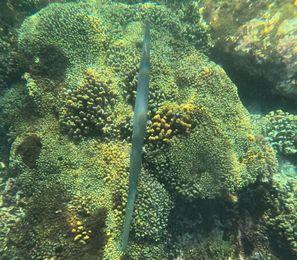Fistularia commersonii: (120, 23, 157, 260)
